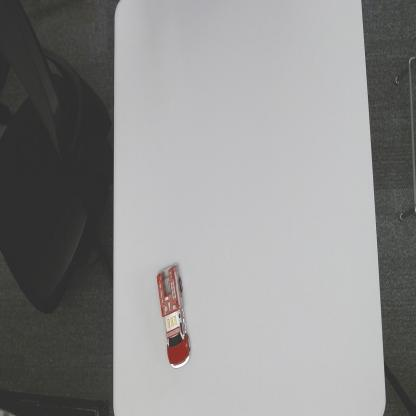Firetruck: (156, 262, 192, 371)
